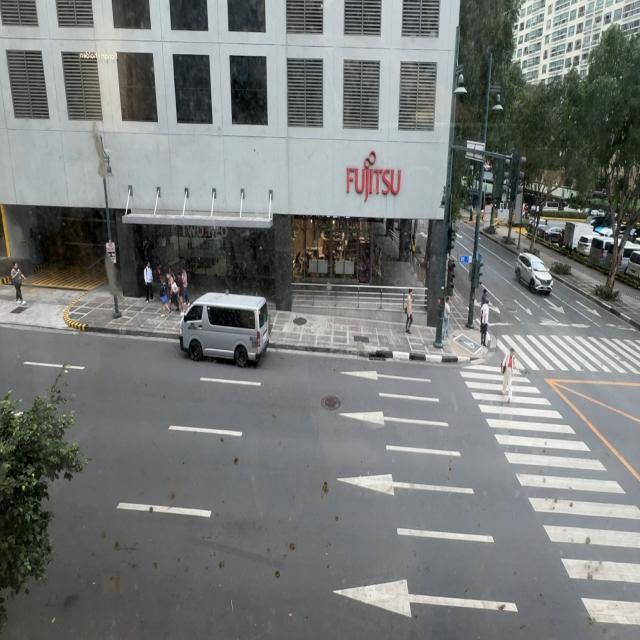waiting: (480, 298, 490, 347), (442, 296, 451, 340)
